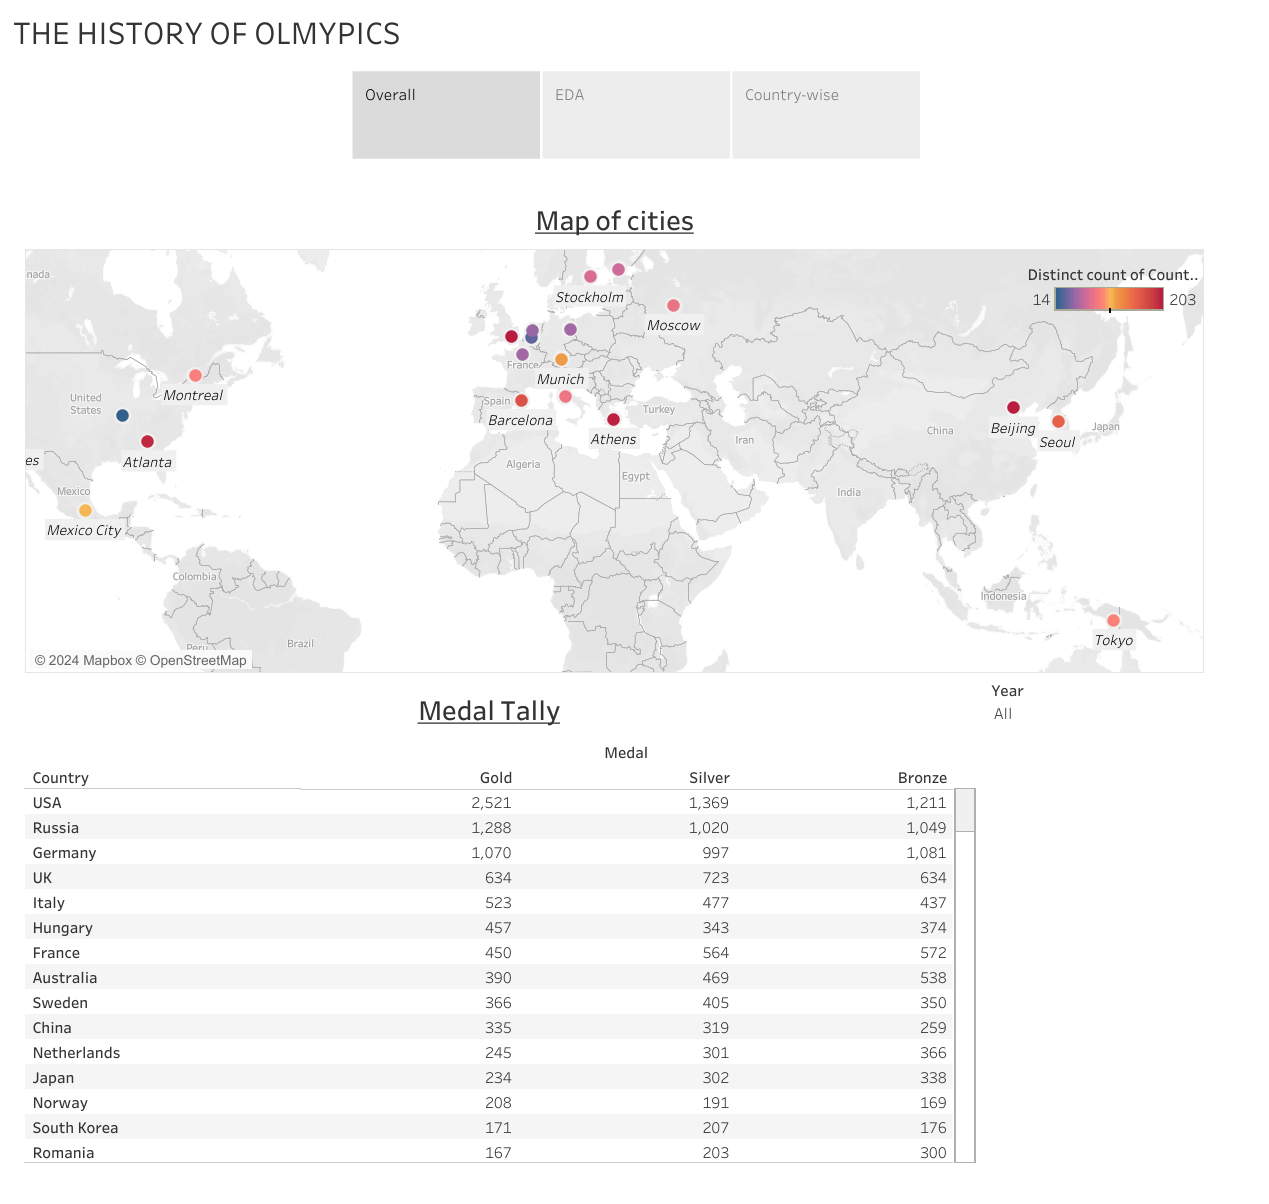

Layout of this report page (visuals, bound fields, positions):
{"tool":"tableau","page":{"name":"Dashboard Overall","canvas":[1000,800],"ordinal":2},"visuals":[{"type":"worksheet","title":"MAP_OF_CITIES","mark":"Automatic","rows":["Latitude"],"cols":["Longitude"],"box":[8,8,952,392]},{"type":"legend","title":"MAP_OF_CITIES","param":"[federated.0h1xndf1fd1zb4165xbdf0hfktvs].[ctd:country:qk]","box":[814,63,140,88]},{"type":"filter","title":"MEDAL_TALLY","param":"[federated.0h1xndf1fd1zb4165xbdf0hfktvs].[none:Year:ok]","box":[785,399,168,61]},{"type":"worksheet","title":"MEDAL_TALLY","mark":"Automatic","rows":["country"],"cols":["Medal"],"box":[8,400,952,392]}]}

Visuals, with their boxes on the page's 1000x800 design canvas (x1, y1, x2, y2). These are canvas units, not pixel positions in the 1269x1204 screenshot, which may show the page scaled, cropped or inside an application window:
"MAP_OF_CITIES" worksheet: box(8, 8, 960, 400)
"MAP_OF_CITIES" legend: box(814, 63, 954, 151)
"MEDAL_TALLY" filter: box(785, 399, 953, 460)
"MEDAL_TALLY" worksheet: box(8, 400, 960, 792)
